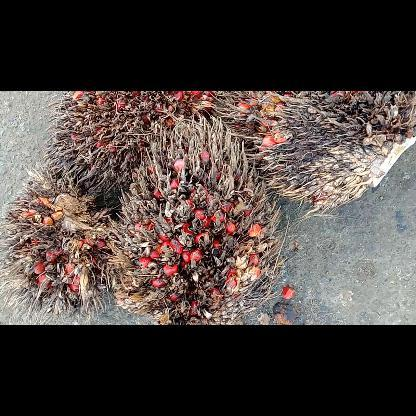Terlalu masak: (105, 112, 291, 324), (211, 91, 415, 216), (40, 90, 224, 214), (0, 162, 118, 324)
